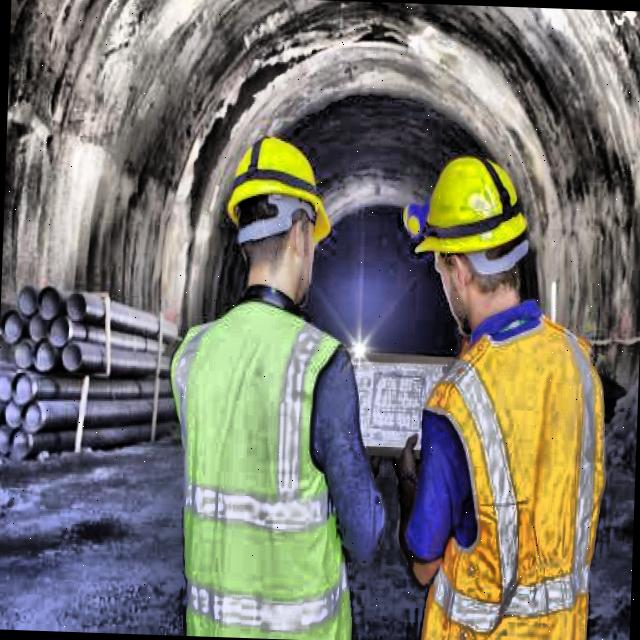helmet: (211, 124, 341, 321), (409, 142, 536, 336)
